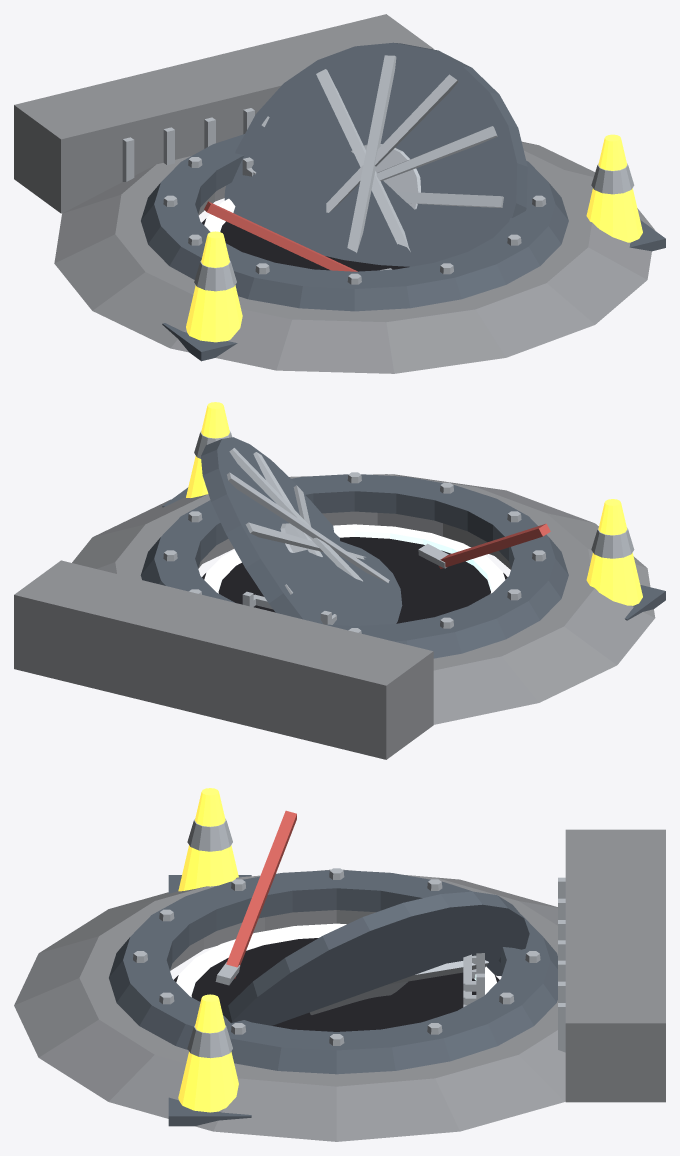
The model's file is SM_SchoolHoleEntrance.fbx.
The picture shows the model from 3 angles, top to bottom: view 1: azimuth 30°, elevation 25°; view 2: azimuth 150°, elevation 25°; view 3: azimuth 270°, elevation 25°; orthographic projection. The views are drawn at different scales.
Parts seen in each view (by area): view 1: SM_SchoolHoleEntrance; view 2: SM_SchoolHoleEntrance; view 3: SM_SchoolHoleEntrance.
Boxes of the visible parts, x1,y1,x2,y2 form: SM_SchoolHoleEntrance: (14,14,665,373); SM_SchoolHoleEntrance: (14,402,665,759); SM_SchoolHoleEntrance: (14,788,665,1141).
Size of the model in its own units: 2.96 by 0.8 by 2.99.
